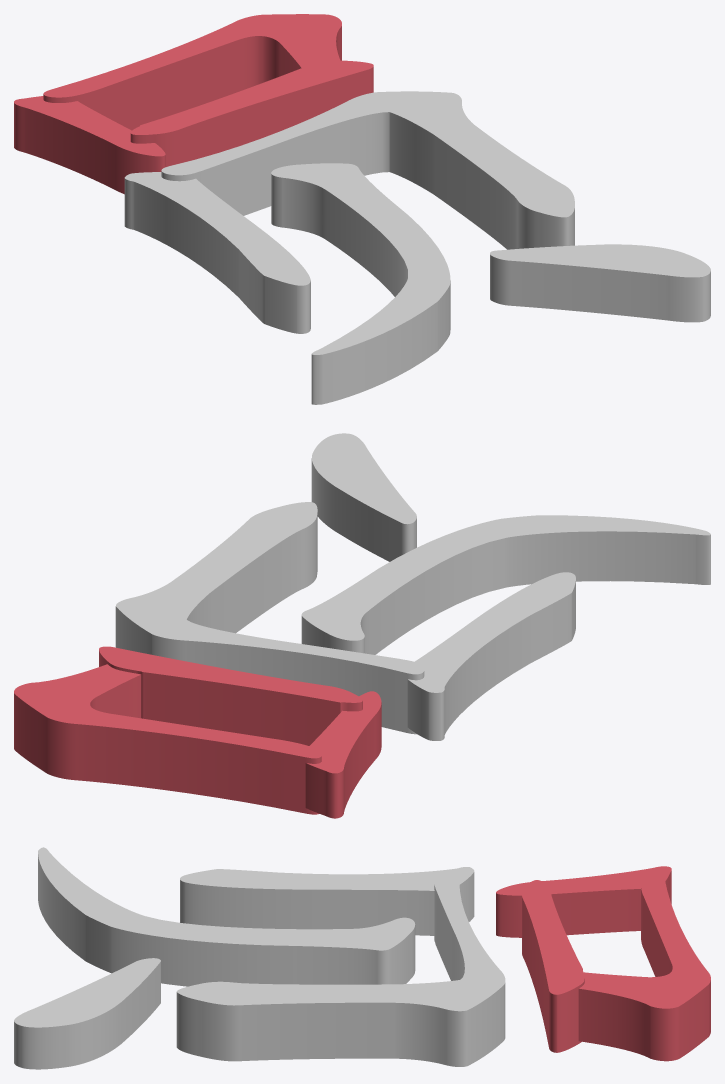
The model's file is hanzi84.fbx.
The picture shows the model from 3 angles, top to bottom: view 1: azimuth 30°, elevation 25°; view 2: azimuth 150°, elevation 25°; view 3: azimuth 270°, elevation 25°; orthographic projection. The views are drawn at different scales.
Visible parts, largest first — view 1: Curve.004, Curve.005, Curve.001, Curve.006, Curve.003, Curve.002, Curve; view 2: Curve.005, Curve.004, Curve.001, Curve.002, Curve.003, Curve.006, Curve; view 3: Curve.004, Curve.005, Curve.003, Curve.001, Curve.006, Curve.002, Curve.
Boxes of the visible parts, bbox=[...] form: Curve.004: bbox=[161, 91, 574, 249]; Curve.005: bbox=[271, 163, 450, 404]; Curve.001: bbox=[43, 14, 341, 130]; Curve.006: bbox=[490, 244, 710, 322]; Curve.003: bbox=[124, 172, 310, 333]; Curve.002: bbox=[130, 60, 373, 166]; Curve: bbox=[14, 96, 165, 194]; Curve.005: bbox=[301, 515, 710, 654]; Curve.004: bbox=[115, 502, 424, 734]; Curve.001: bbox=[14, 664, 321, 814]; Curve.002: bbox=[99, 646, 362, 745]; Curve.003: bbox=[407, 572, 575, 740]; Curve.006: bbox=[311, 433, 416, 561]; Curve: bbox=[305, 691, 381, 818]; Curve.004: bbox=[176, 874, 505, 1066]; Curve.005: bbox=[38, 847, 415, 986]; Curve.003: bbox=[180, 867, 474, 935]; Curve.001: bbox=[578, 872, 710, 1061]; Curve.006: bbox=[14, 958, 160, 1069]; Curve.002: bbox=[522, 880, 584, 1052]; Curve: bbox=[496, 866, 671, 937].
Bounding box in the file's own units: 15.24 × 25.25 × 2.32.
